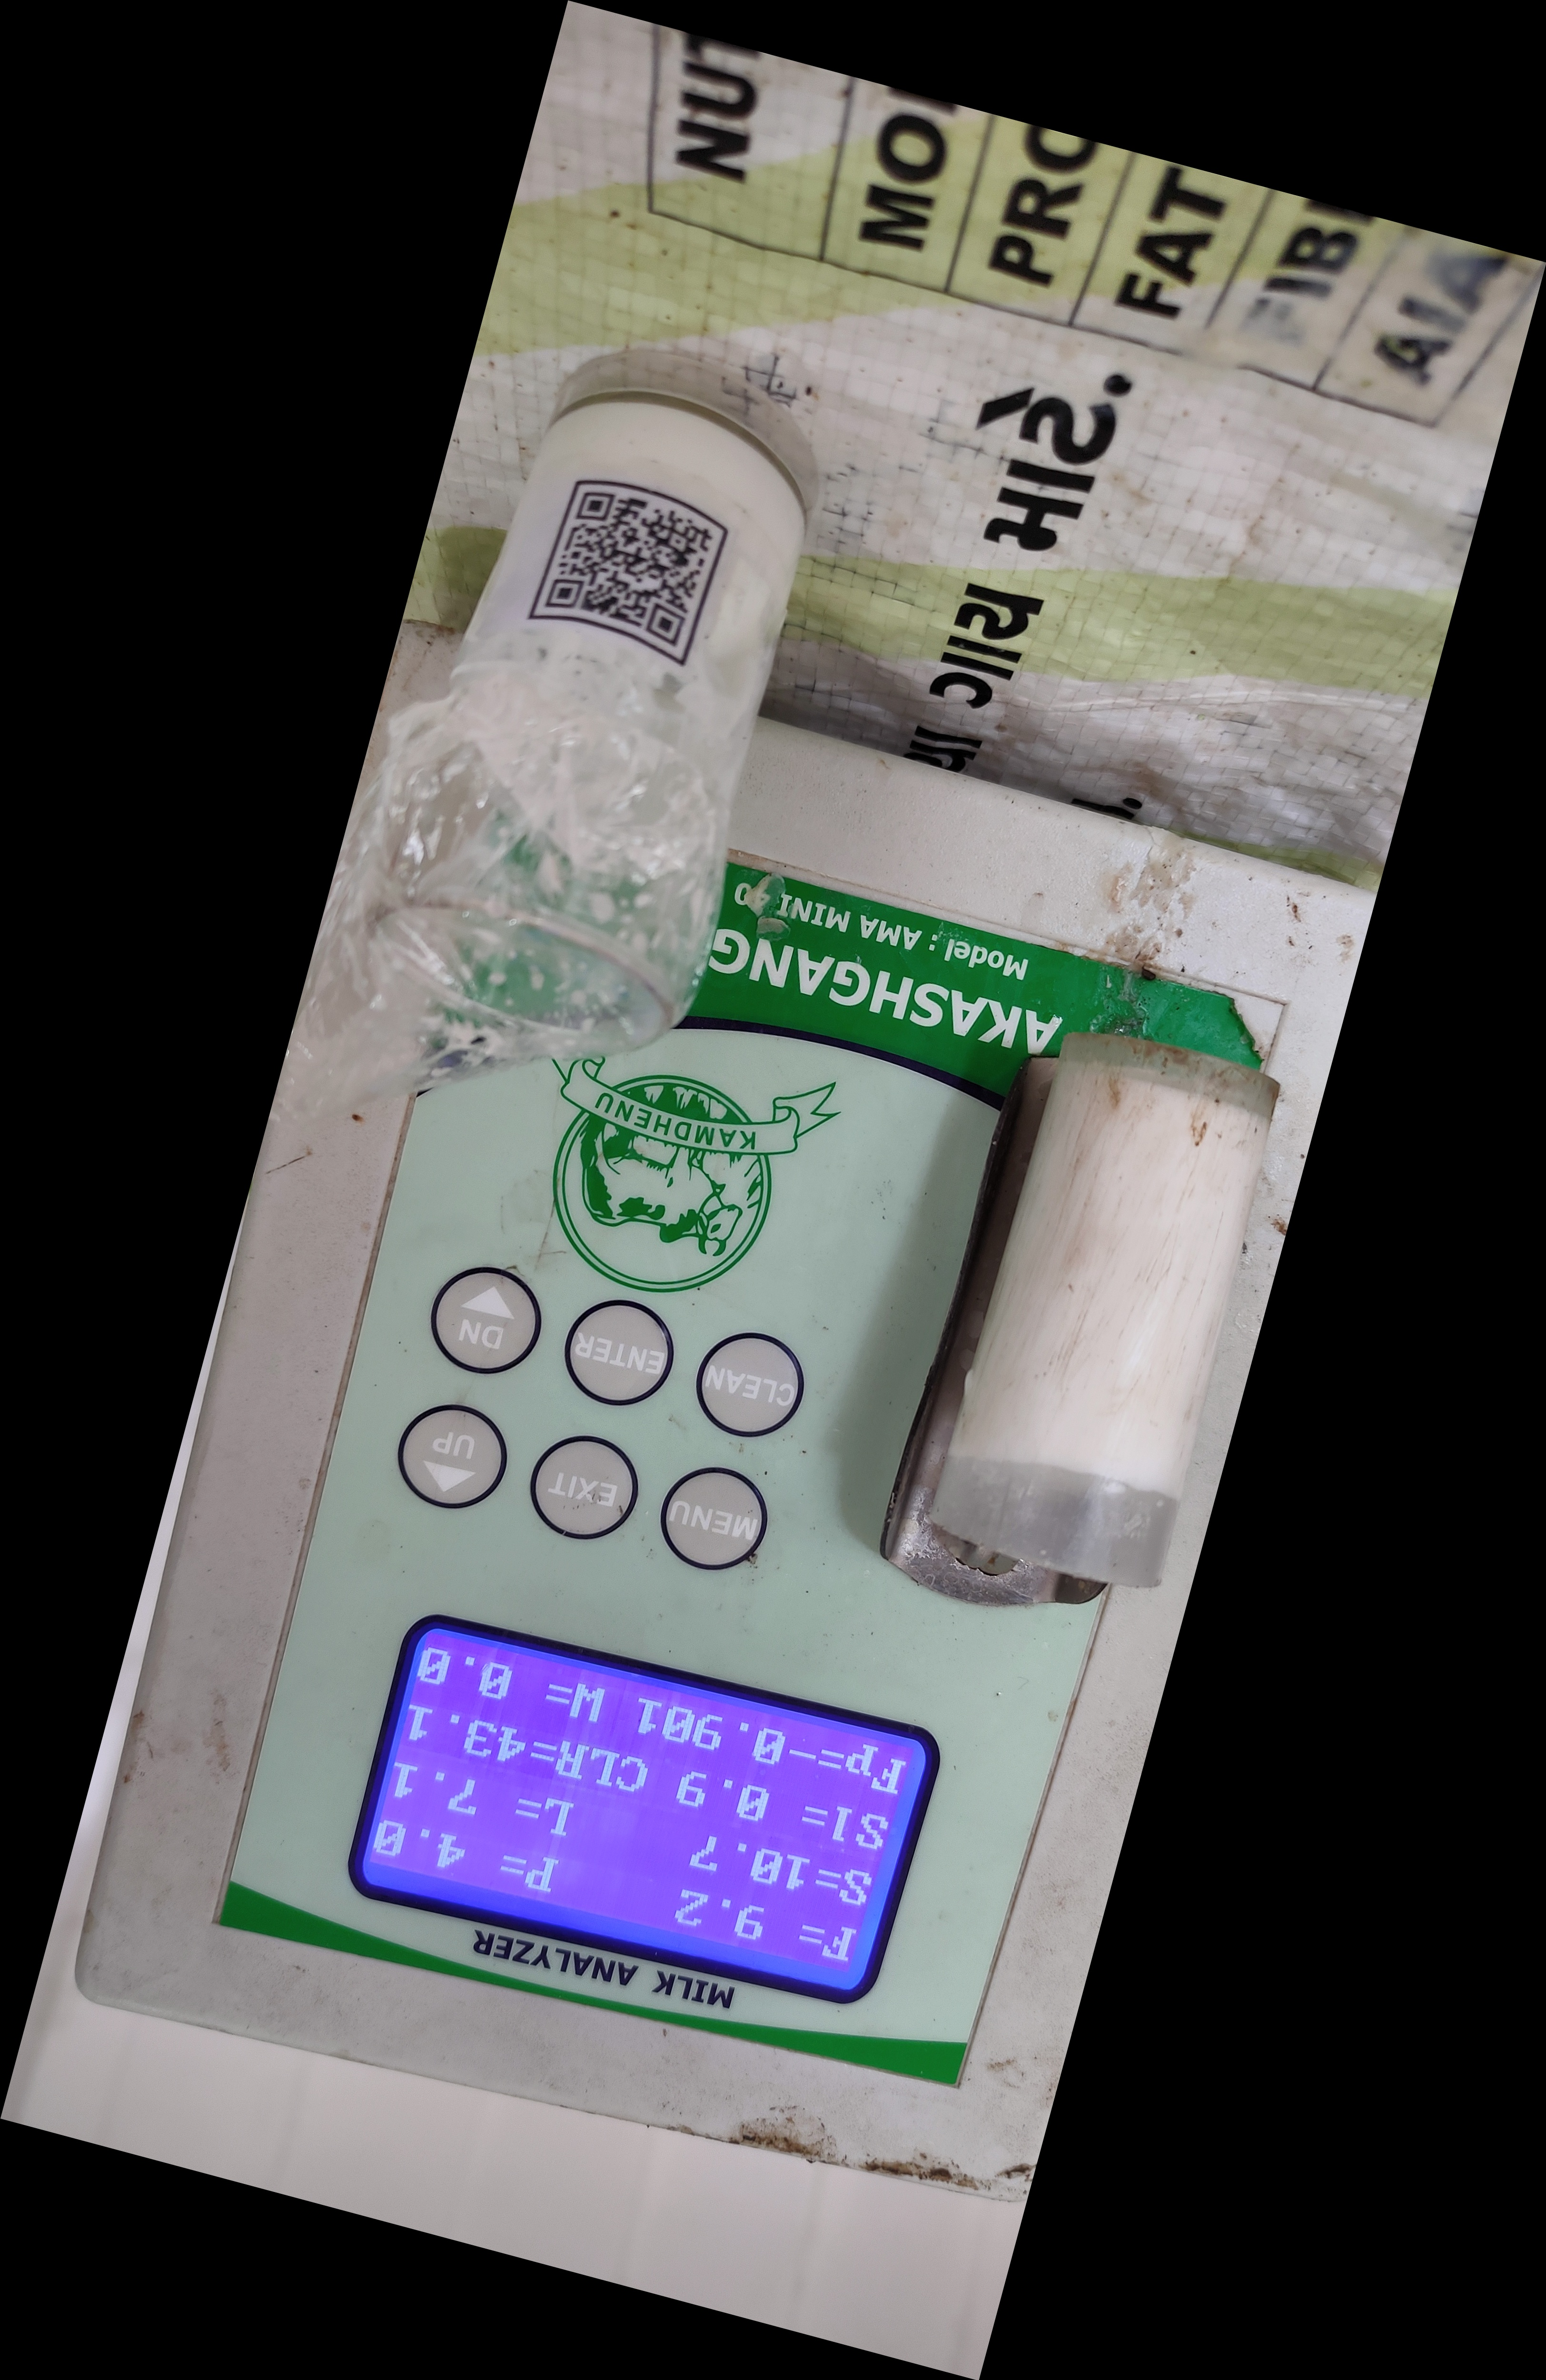lcd: (342, 1606, 939, 2021)
qr: (540, 475, 730, 689)
